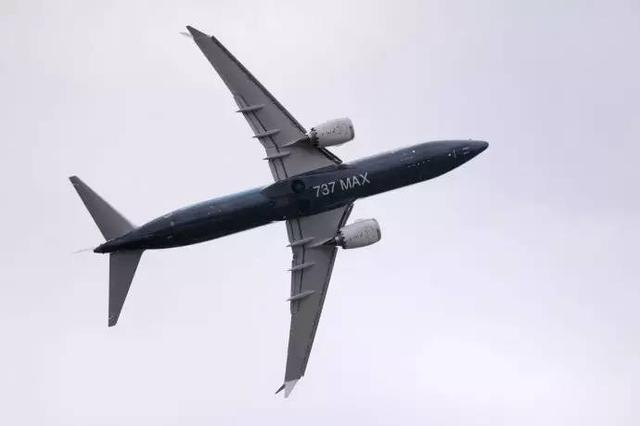airplane: (46, 23, 498, 395)
